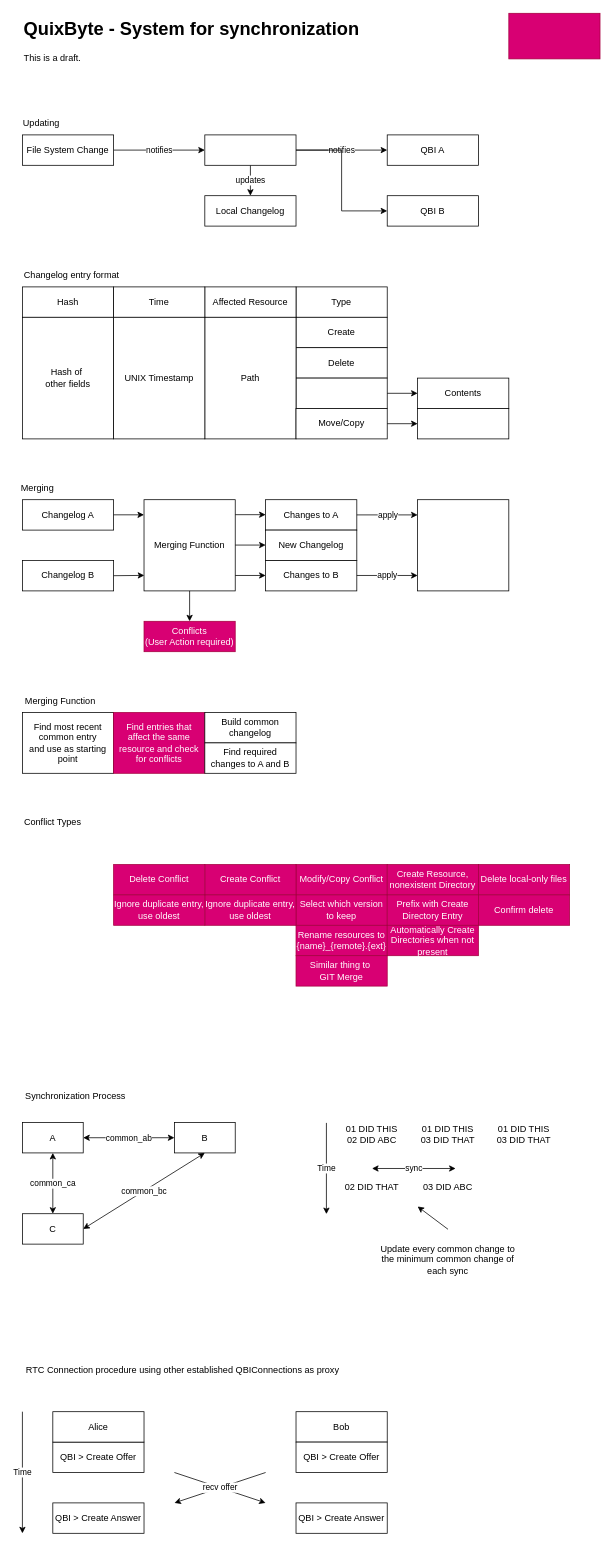
The diagram is 613 pixels wide and 1553 high, and some of its shapes have lost their labels. Here are the shapes that lost their labels. From the top down, the centre of each, then its label:
At (554,36): "TODO, Second Priority".
At (250,149): "QBI Thread".
At (341,392): "Update".
At (463,423): "Resource".
At (463,545): "Common FS".
